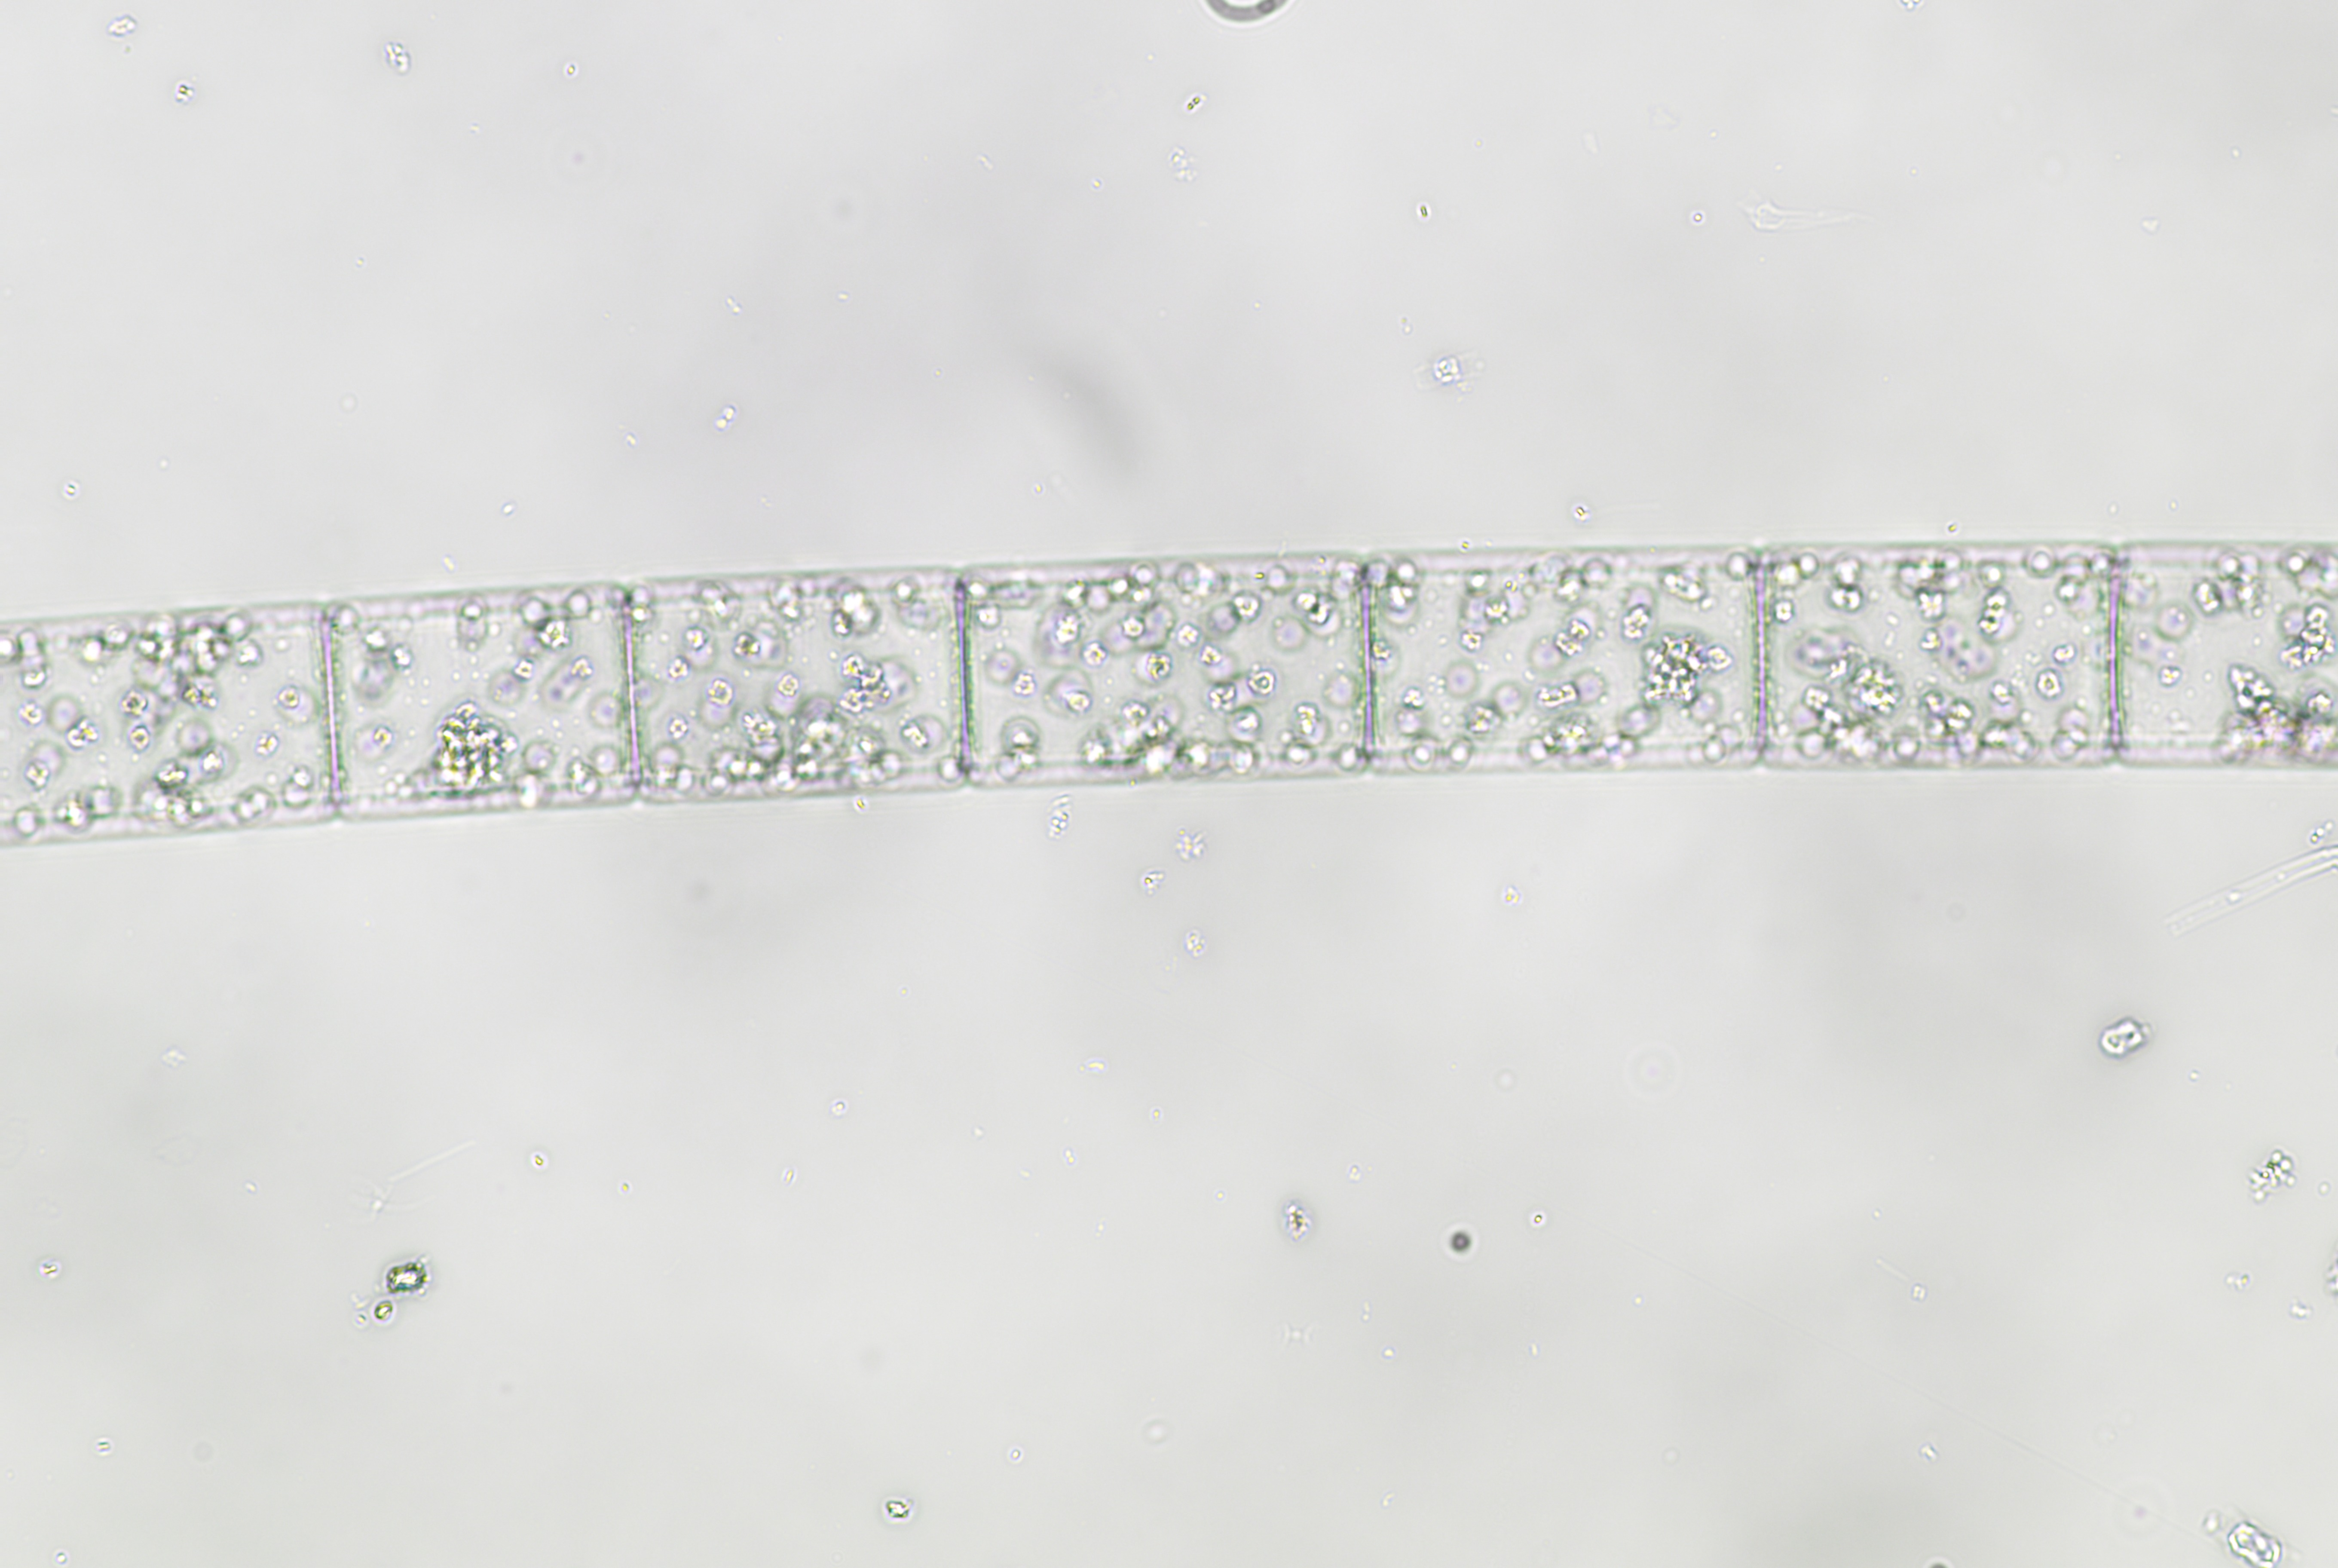guinardia flaccida: (0, 521, 2338, 868)
